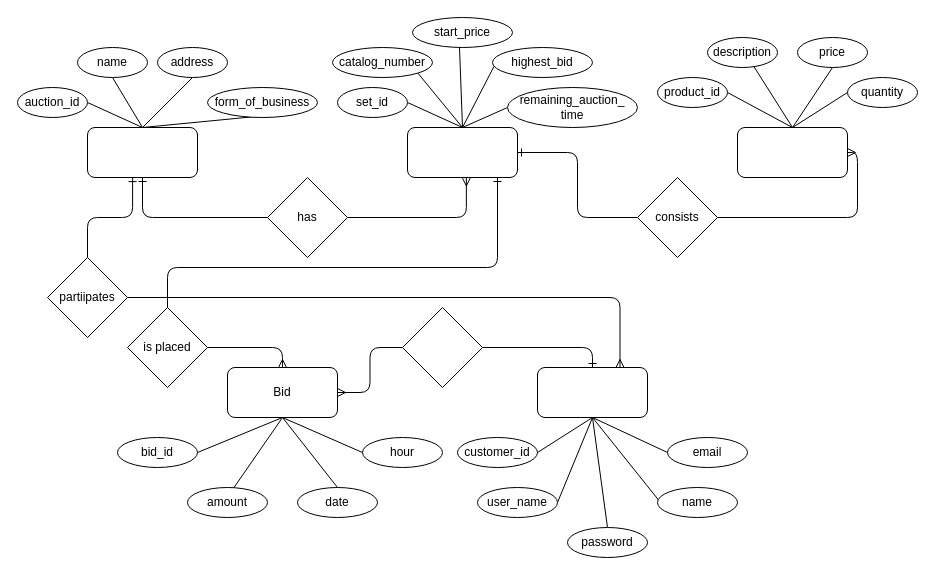
The diagram is 935 pixels wide and 575 high, and some of its shapes have lost their labels. The centre of each missing label's shape, as x and y in pixels:
Auction: point 142,152
Customer: point 592,392
makes: point 442,347
Product: point 792,152
Set: point 462,152
